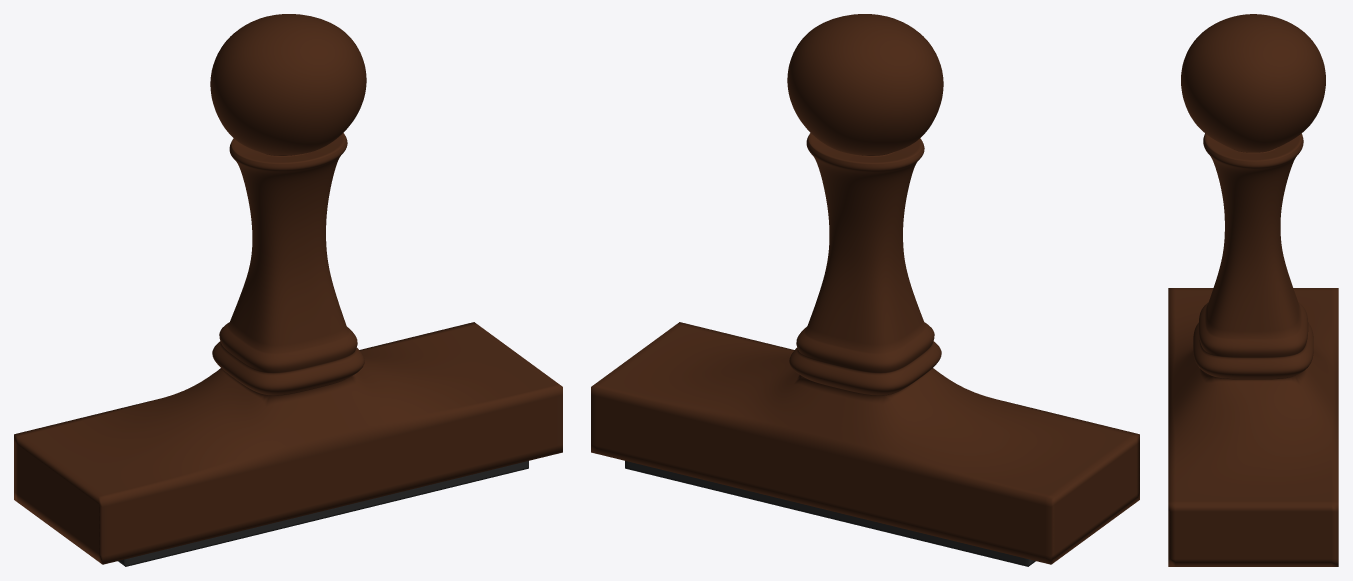
The model's file is stamp.fbx.
3 renders of one model, left to right at view 1: azimuth 30°, elevation 25°; view 2: azimuth 150°, elevation 25°; view 3: azimuth 270°, elevation 25°, orthographic. The views are drawn at different scales.
Visible parts, largest first — view 1: Cube; view 2: Cube; view 3: Cube.
Boxes of the visible parts, bbox=[...] form: Cube: bbox=[14, 14, 562, 566]; Cube: bbox=[591, 14, 1139, 566]; Cube: bbox=[1168, 14, 1338, 566].
Bounding box in the file's own units: 733 × 710 × 244.
